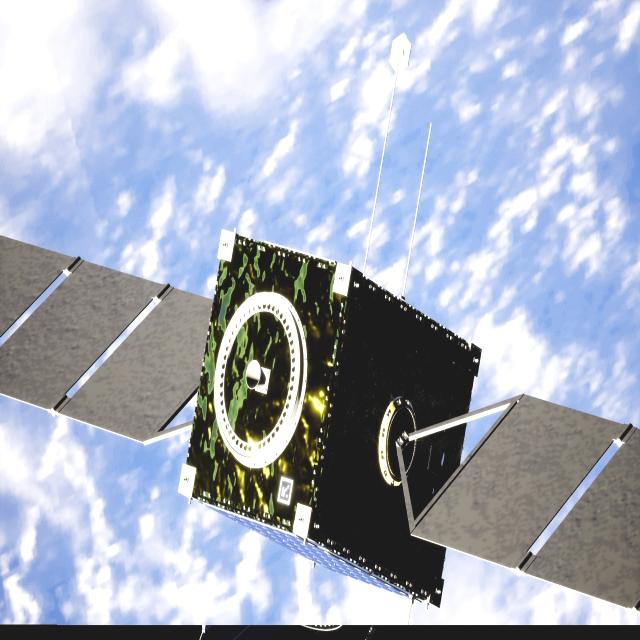medium_debris: (0, 231, 640, 612)
